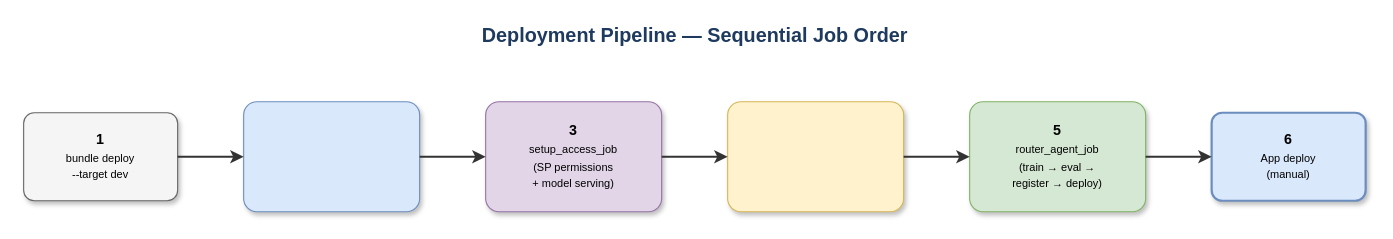
Some shapes in this 1393 by 239 pixel diagram are drawn without their labels. Each missing label, with the centre of its shape:
2 setup_job (schema + tables + synthetic data): point 332,157
4 vector_index_job (VS index from certified corpus): point 816,157
